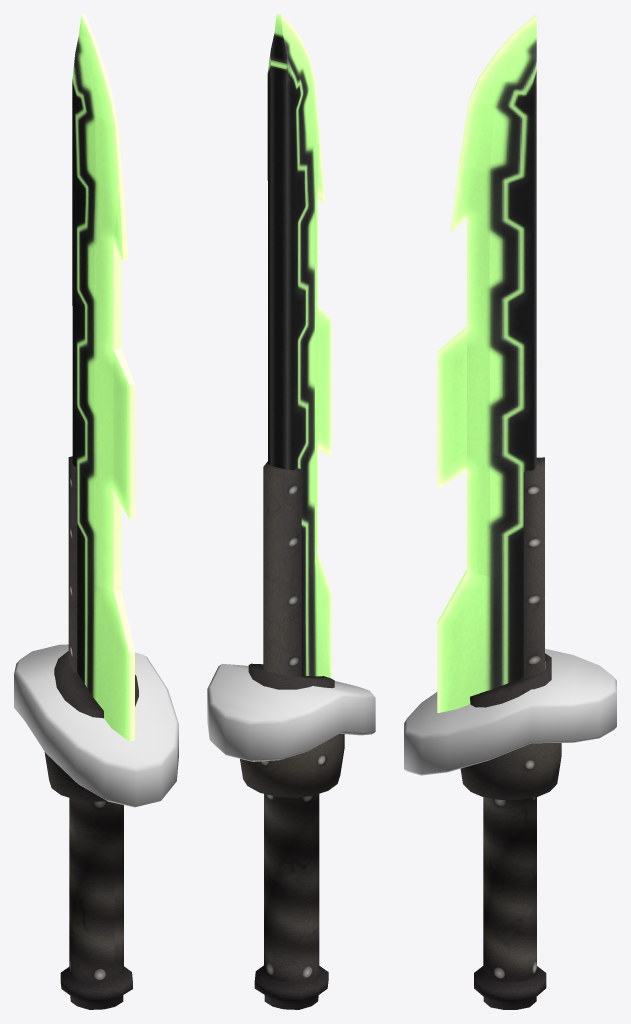
File: PlasmaSaber.fbx
3 renders of one model, left to right at view 1: azimuth 30°, elevation 25°; view 2: azimuth 150°, elevation 25°; view 3: azimuth 270°, elevation 25°, orthographic.
Visible parts, largest first — view 1: Blade, Handle, Handguard; view 2: Blade, Handle, Handguard; view 3: Blade, Handle, Handguard.
Boxes of the visible parts, x1,y1,x2,y2 form: Blade: (72, 14, 134, 741); Handle: (44, 456, 138, 1009); Handguard: (14, 644, 178, 807); Blade: (267, 14, 331, 678); Handle: (240, 461, 344, 1009); Handguard: (207, 663, 375, 761); Blade: (437, 14, 536, 712); Handle: (460, 457, 561, 1009); Handguard: (404, 648, 616, 775).
Bounding box in the file's own units: 39.96 × 304 × 59.66.
3 materials, 2 textured.
